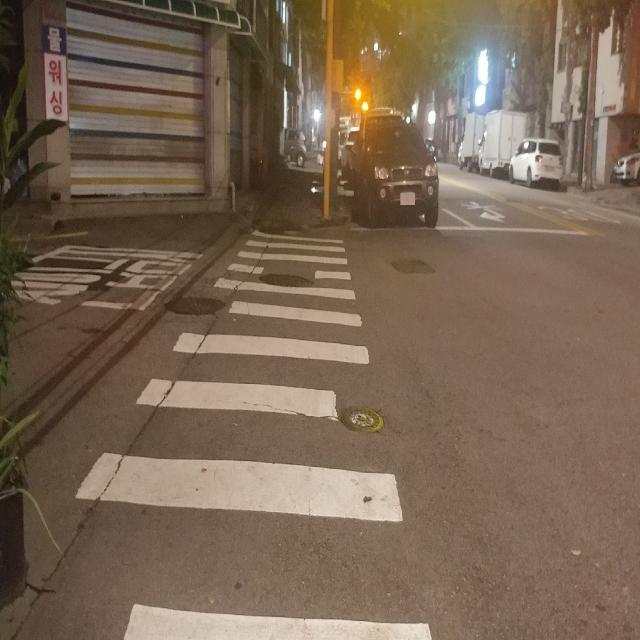횡단보도: (76, 229, 432, 640)
